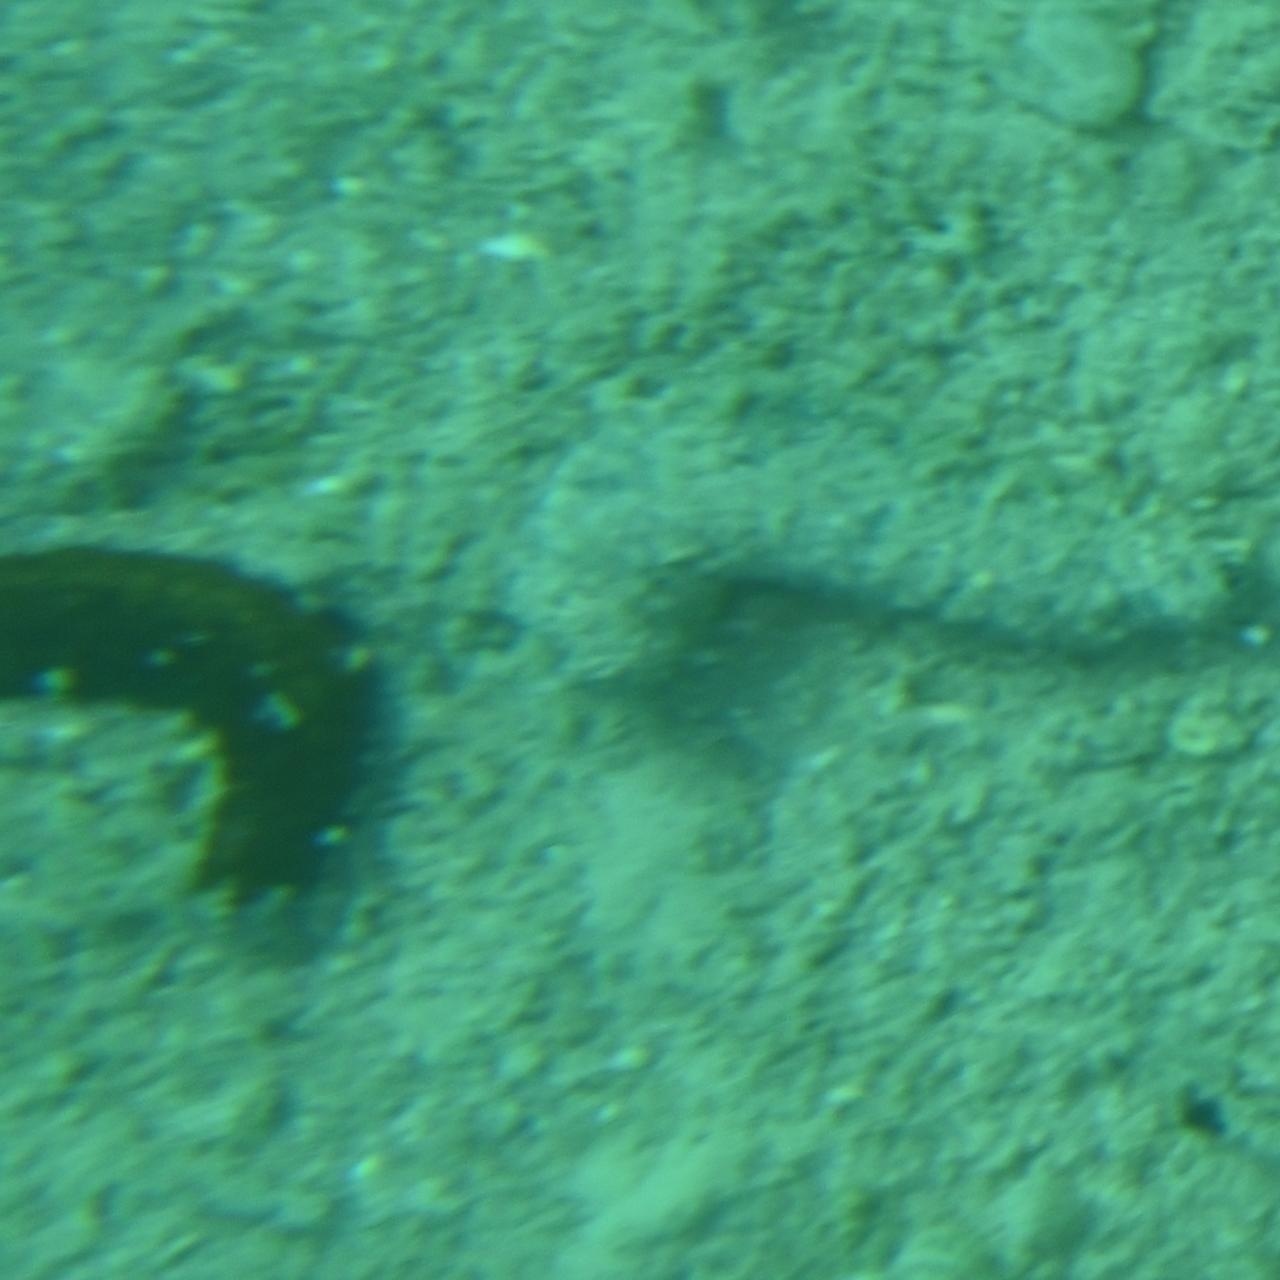Holothuria tubulosa: (526, 409, 1267, 699), (0, 532, 396, 921)
